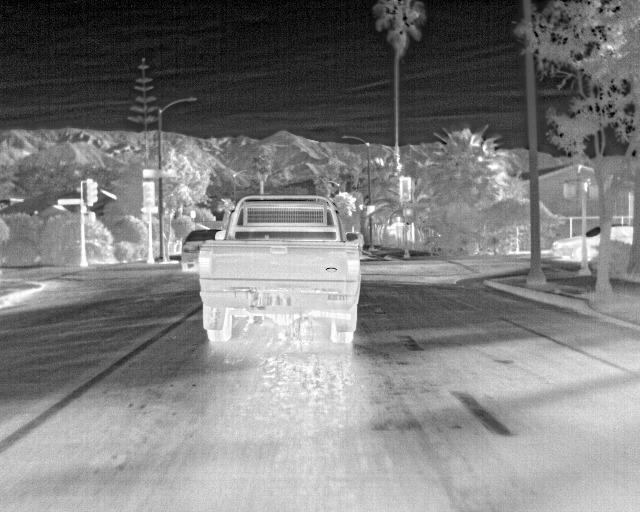car: (199, 194, 361, 344), (553, 225, 634, 260), (182, 230, 223, 270)
light: (563, 184, 577, 202), (145, 184, 153, 206), (588, 185, 599, 200), (90, 182, 98, 202), (402, 180, 409, 200), (403, 209, 412, 217), (90, 213, 95, 222)
sign: (143, 169, 175, 177), (58, 199, 80, 204), (141, 207, 158, 213), (367, 205, 375, 217), (191, 211, 196, 218)
